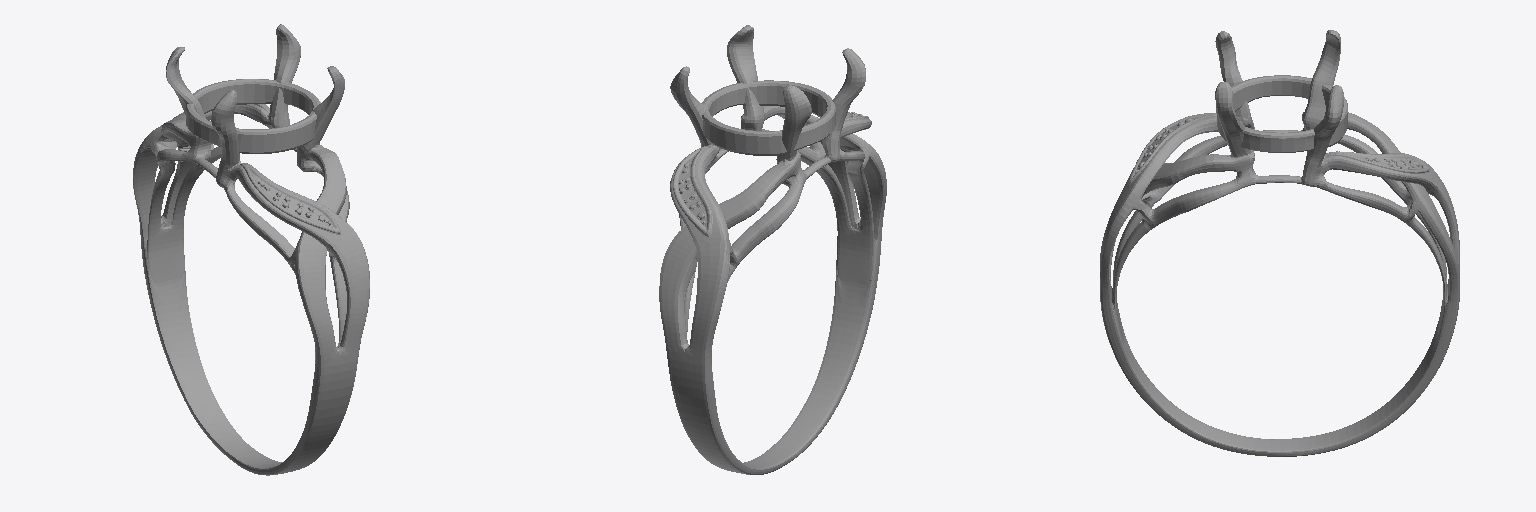
The model's file is ring2.obj.
3 views of the same model, side by side, from view 1: azimuth 30°, elevation 25°; view 2: azimuth 150°, elevation 25°; view 3: azimuth 270°, elevation 25° (orthographic).
Parts seen in each view (by area): view 1: Box02; view 2: Box02; view 3: Box02.
Boxes of the visible parts, <box> form: Box02: <box>133,24,369,475</box>; Box02: <box>659,25,886,474</box>; Box02: <box>1100,30,1459,456</box>.
Bounding box in the file's own units: 1.7 × 4.6 × 3.74.